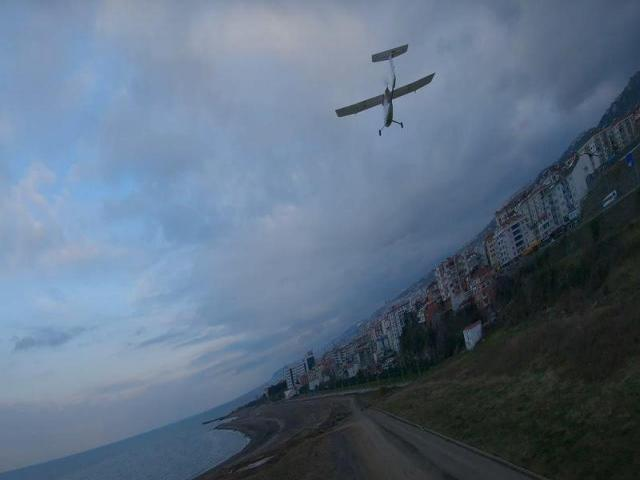hedef: (322, 32, 462, 144)
